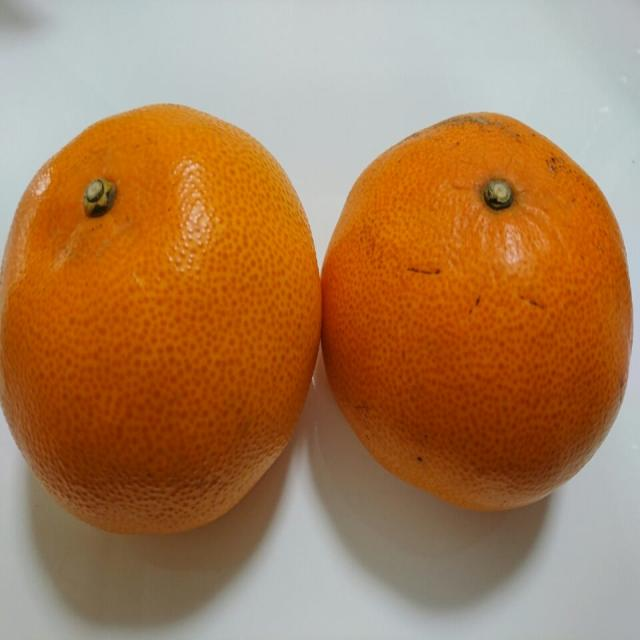Orange: (1, 100, 322, 536), (322, 106, 635, 507)
